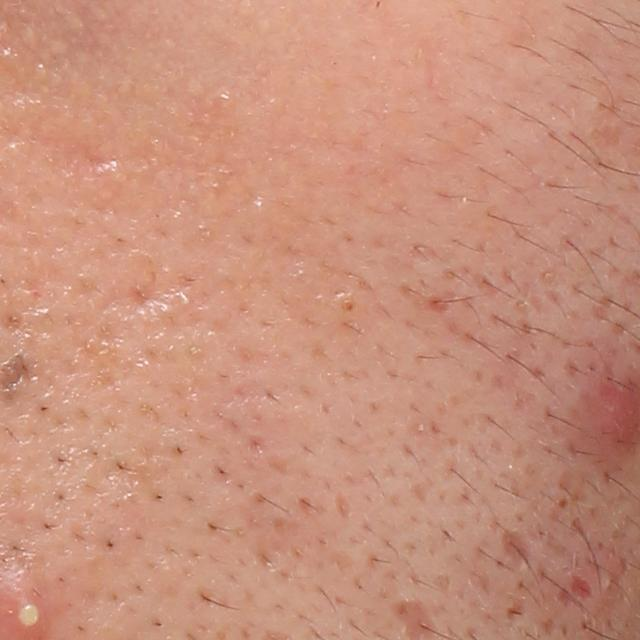atrophic_scar: (64, 139, 131, 179), (113, 273, 175, 312), (497, 523, 533, 572)
comedo: (334, 290, 360, 315), (553, 495, 572, 511)
